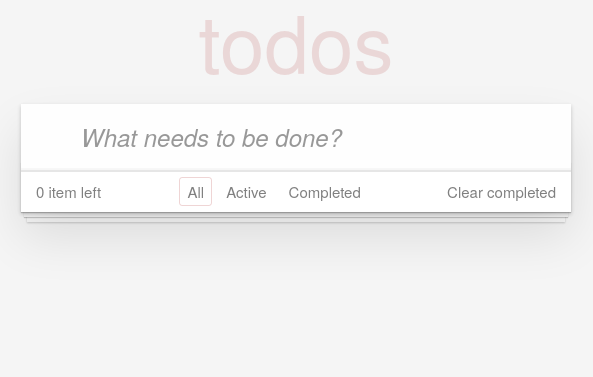
App Component › filters todos by active and completed status
Type "Task 1" into the field with placeholder "What needs to be done?" at (296, 137), box [21,104,571,170]
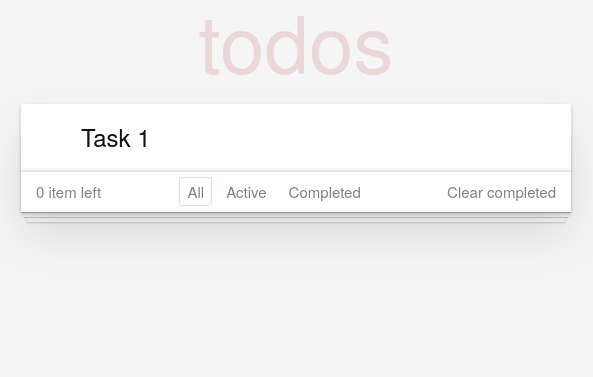
Press Enter in the field with placeholder "What needs to be done?", box [21,104,571,170]
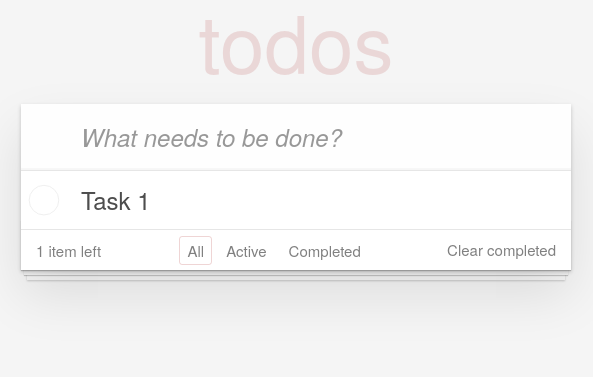
Type "Task 2" into the field with placeholder "What needs to be done?" at (296, 137), box [21,104,571,170]
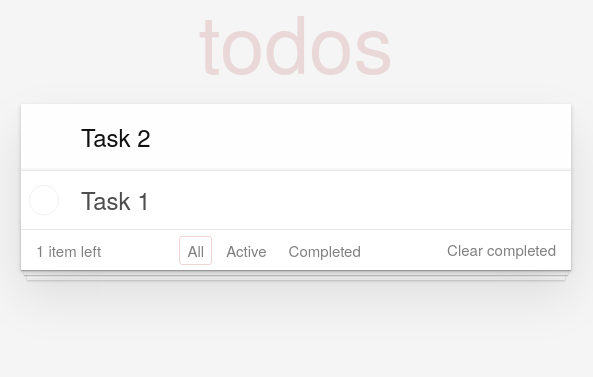
Press Enter in the field with placeholder "What needs to be done?", box [21,104,571,170]
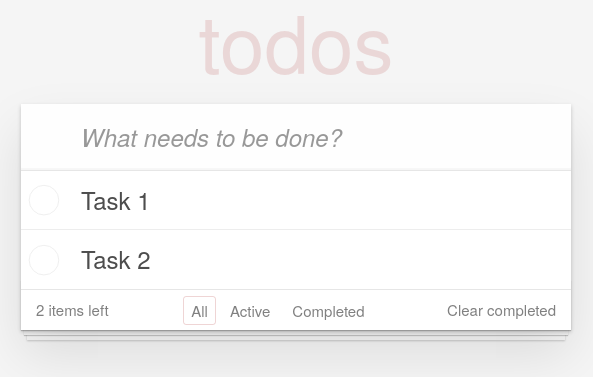
Click the 1st checkbox labelled "Task 1" at (296, 200), box [21,171,571,229]
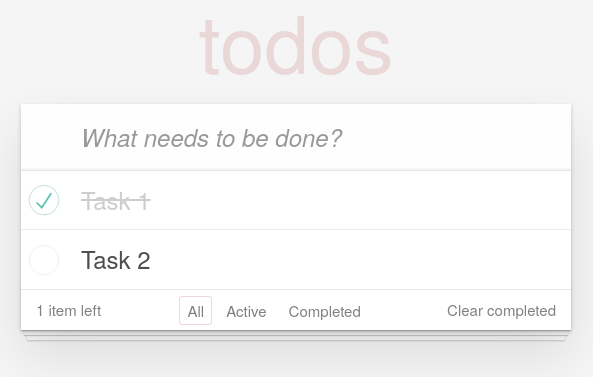
Click the button "Completed" at (325, 310), box [281,296,369,325]
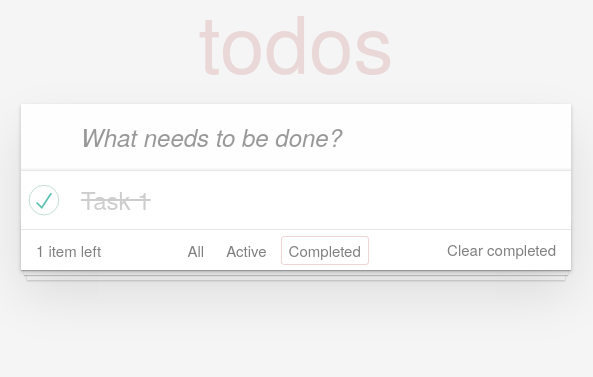
Expected: the text "Task 1" is shown, [81,186,151,214]
Expected: the text "Task 2" is gone
